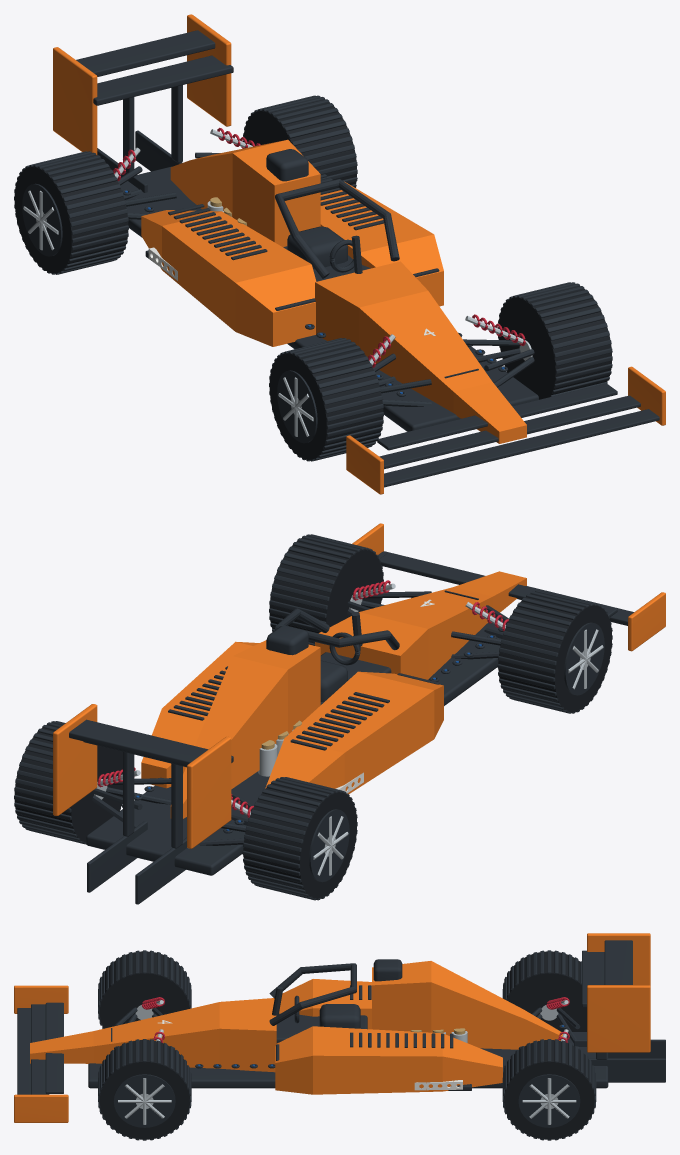
The model's file is brick-mclaren-mcl39.glb.
3 views of the same model, one above another, from view 1: azimuth 30°, elevation 25°; view 2: azimuth 150°, elevation 25°; view 3: azimuth 270°, elevation 25° (orthographic). The views are drawn at different scales.
Visible parts, largest first — view 1: catalog_surface_RealismUV; view 2: catalog_surface_RealismUV; view 3: catalog_surface_RealismUV.
Part boxes in pixels (box(x1,y1,x2,y2)): catalog_surface_RealismUV: box(14, 14, 665, 494); catalog_surface_RealismUV: box(14, 523, 665, 904); catalog_surface_RealismUV: box(14, 933, 665, 1140).
Size of the model in its own units: 0.25 by 0.13 by 0.61.
